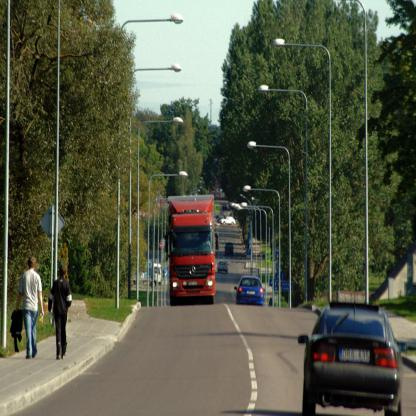Bus: (166, 192, 216, 306)
Car: (302, 302, 406, 415), (233, 276, 266, 304), (217, 260, 230, 275), (224, 244, 234, 255)
Truck: (160, 196, 224, 306)
